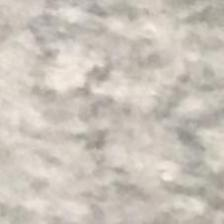Non_Crack: (2, 16, 213, 180)
